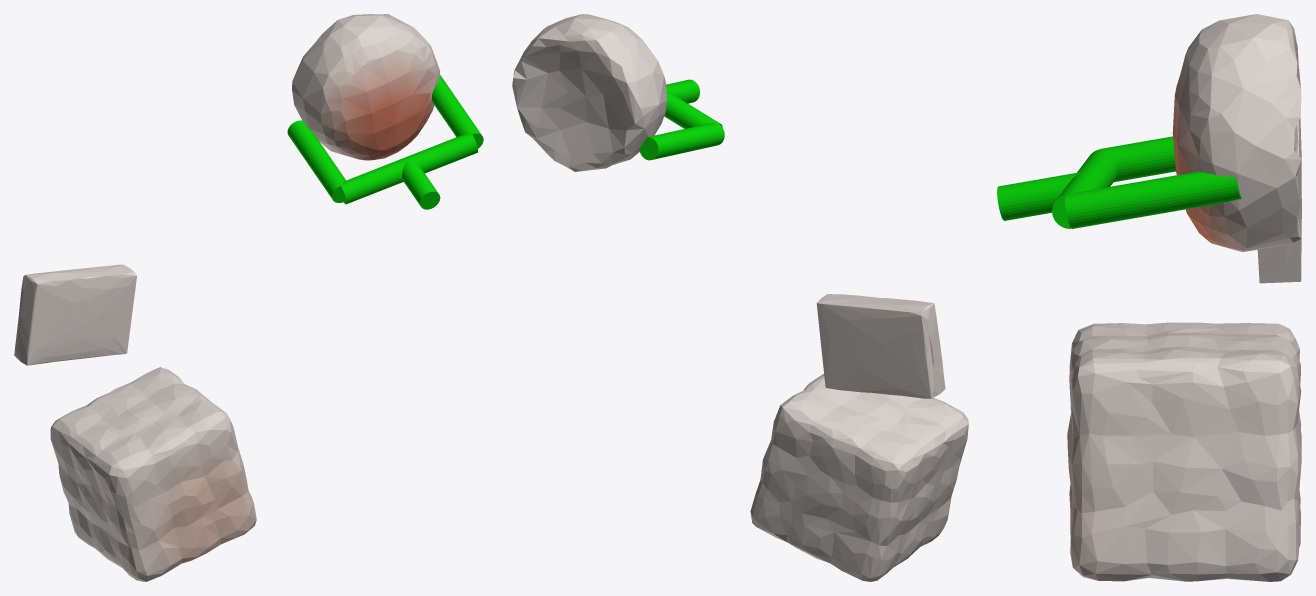
File: round_000_trial_002.obj
3 views of the same model, side by side, from view 1: azimuth 30°, elevation 25°; view 2: azimuth 150°, elevation 25°; view 3: azimuth 270°, elevation 25° (orthographic). The views are drawn at different scales.
Parts seen in each view (by area): view 1: geometry_0, geometry_1; view 2: geometry_0, geometry_1; view 3: geometry_0, geometry_1.
Part boxes in pixels (x1=…): geometry_0: x1=14, y1=14, x2=439, y2=581; geometry_1: x1=287, y1=75, x2=483, y2=209; geometry_0: x1=512, y1=14, x2=968, y2=581; geometry_1: x1=639, y1=79, x2=724, y2=160; geometry_0: x1=1067, y1=14, x2=1301, y2=581; geometry_1: x1=997, y1=136, x2=1241, y2=228.
Size of the model in its own units: 0.2118 by 0.2288 by 0.0867.
